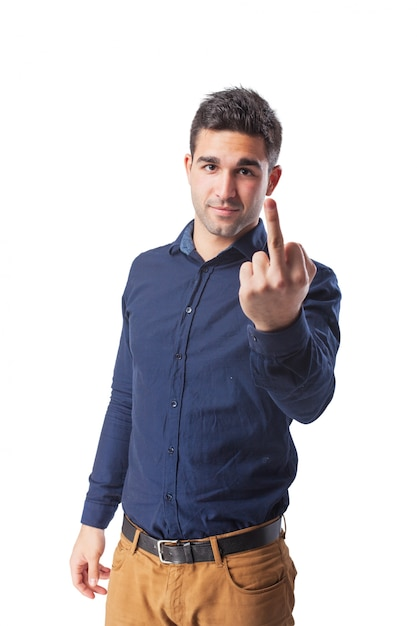insulting_gesture: (233, 197, 321, 332)
